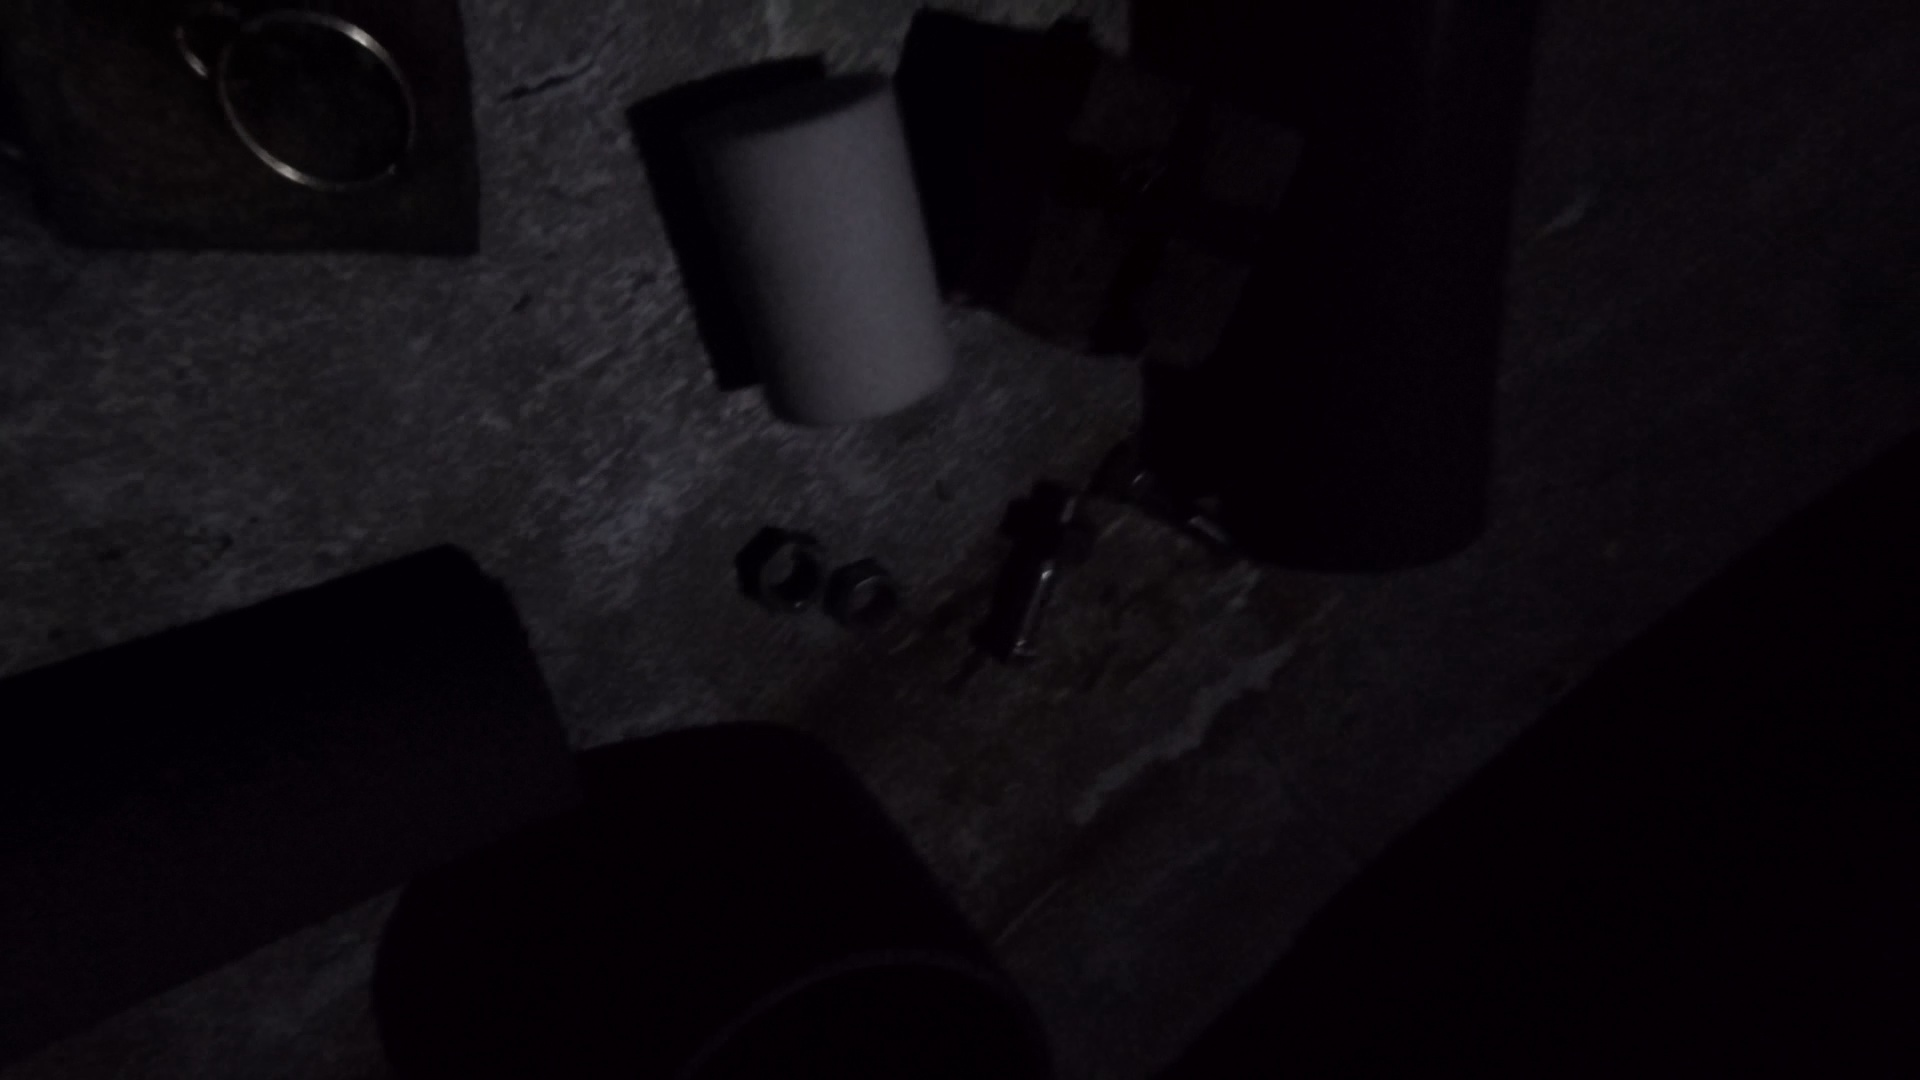bolt: (982, 480, 1081, 669), (1101, 435, 1233, 547)
led_block: (1, 1, 484, 260), (893, 9, 1233, 375)
nut: (736, 525, 828, 613), (996, 502, 1100, 564), (829, 559, 903, 632)
pipe: (1, 549, 609, 1072), (367, 721, 1050, 1080), (1191, 1, 1549, 564), (698, 69, 960, 427)
